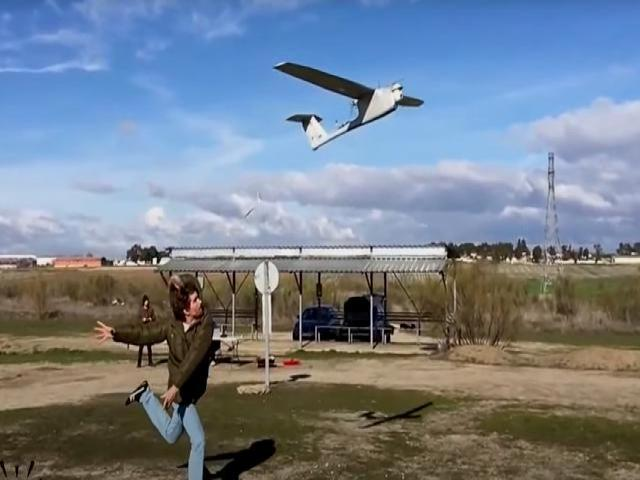iha: (275, 64, 424, 153)
